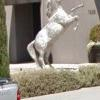Statue: (21, 1, 85, 69)
